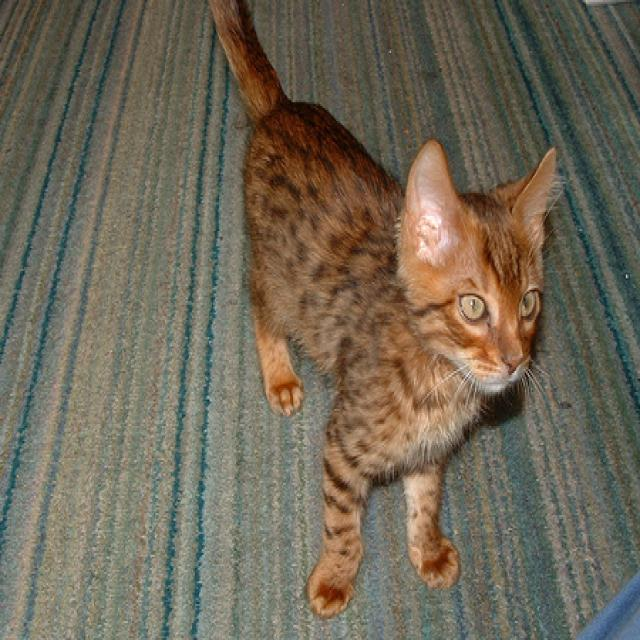Bengal: (179, 0, 568, 629)
